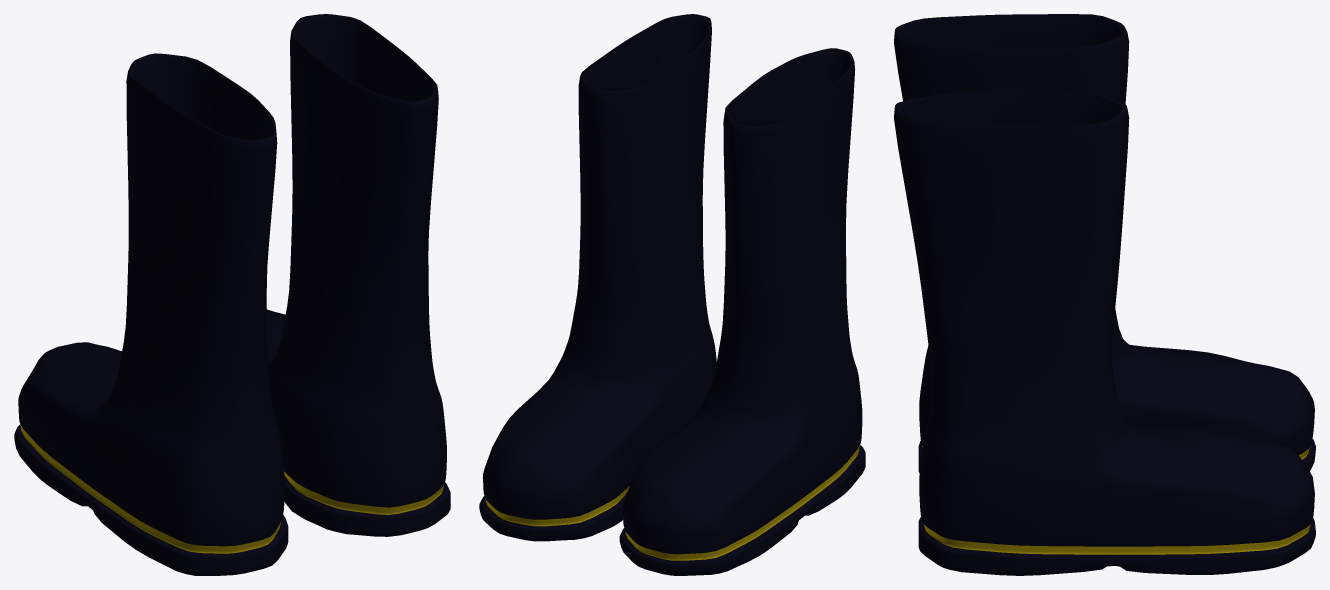
Rendered from Eden_boots.fbx.
The picture shows the model from 3 angles, left to right: view 1: azimuth 30°, elevation 25°; view 2: azimuth 150°, elevation 25°; view 3: azimuth 270°, elevation 25°; orthographic projection. The views are drawn at different scales.
Visible parts, largest first — view 1: pCube19; view 2: pCube19; view 3: pCube19.
Part boxes in pixels (x1=…): pCube19: x1=14, y1=14, x2=450, y2=575; pCube19: x1=479, y1=14, x2=865, y2=575; pCube19: x1=894, y1=14, x2=1315, y2=575.
Bounding box in the file's own units: 0.00667 × 0.00951 × 0.0083.
